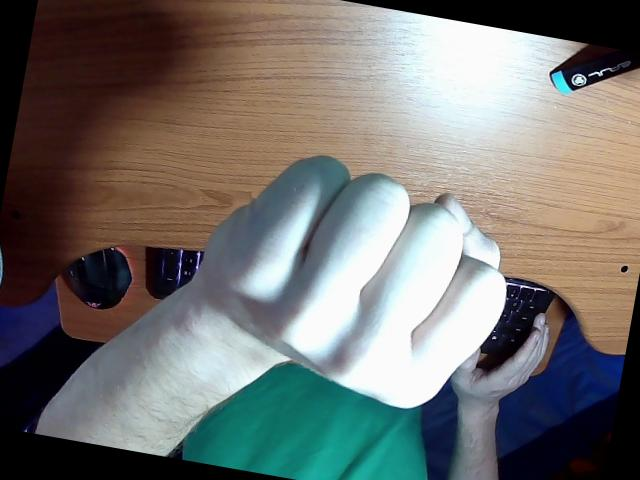rock: (201, 156, 505, 408)
